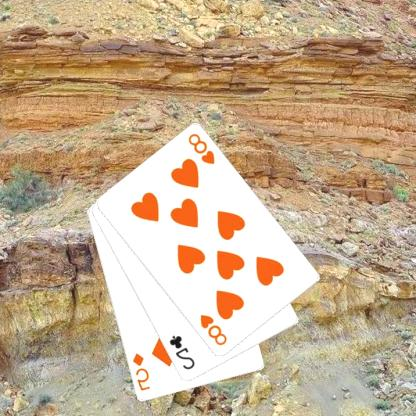2C: (168, 333, 198, 371)
5D: (131, 351, 153, 392)
8H: (199, 312, 230, 347), (187, 131, 218, 166)
